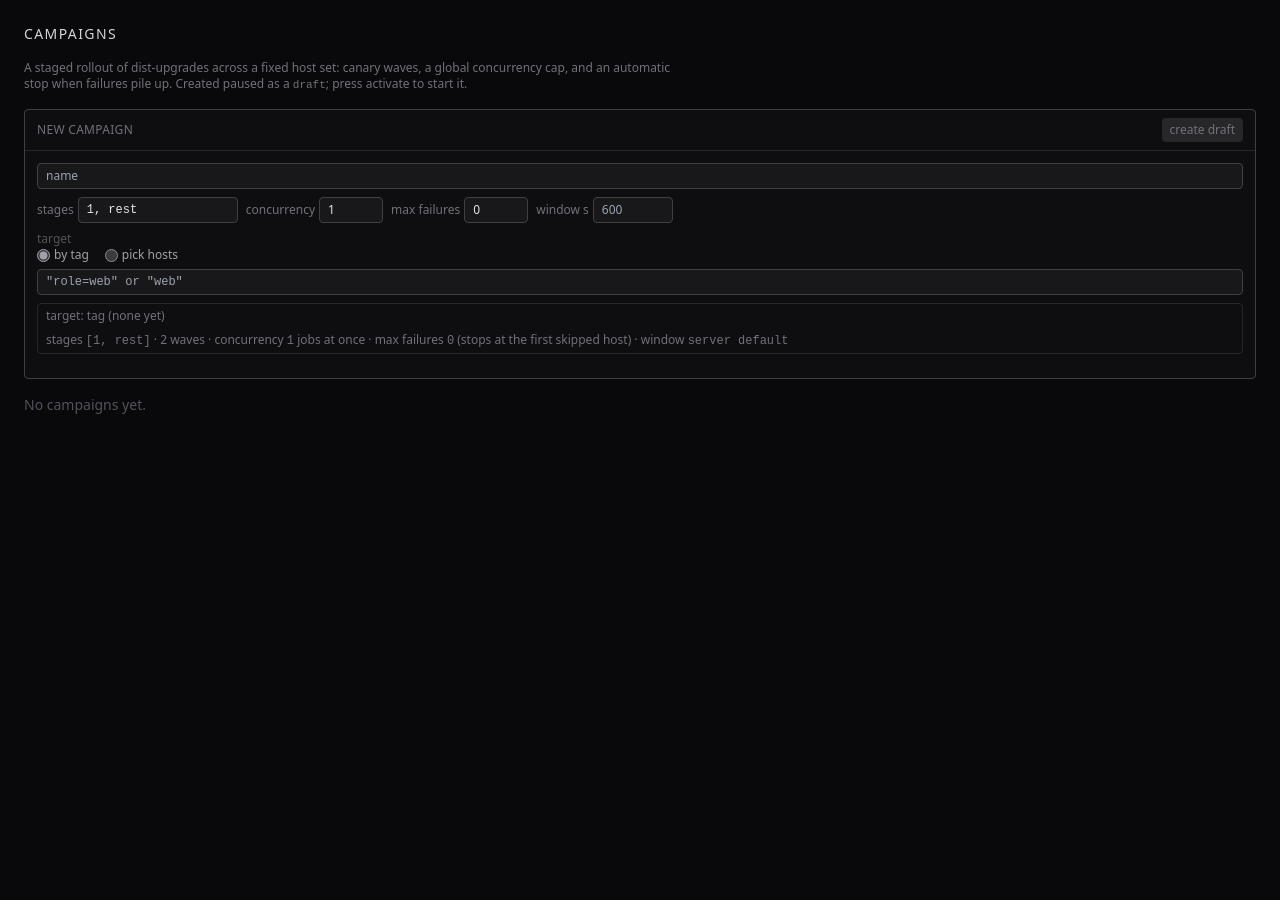
Scenario: CampaignsView › creates a draft with a tag target and parsed stages
Expected: the text "No campaigns yet." is shown, [24,395,146,414]
Expected: the button "create draft" is disabled, [1162,118,1243,142]
Type "march rollout" into the field with placeholder "name" at (640, 176), box [37,163,1243,189]
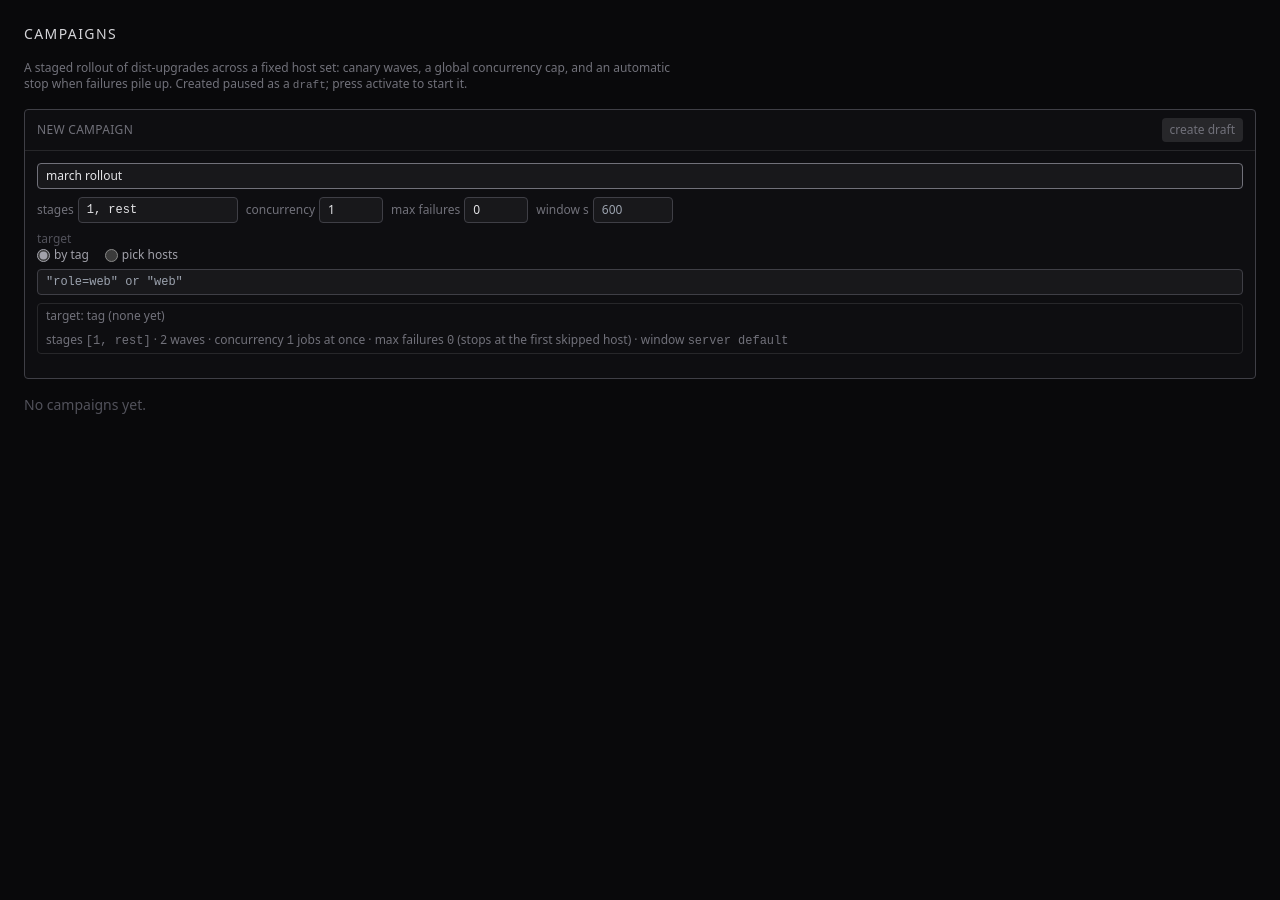
Replace the text in the field labelled "stages" with "2, 25%, rest" at (158, 210), box [78,197,238,223]
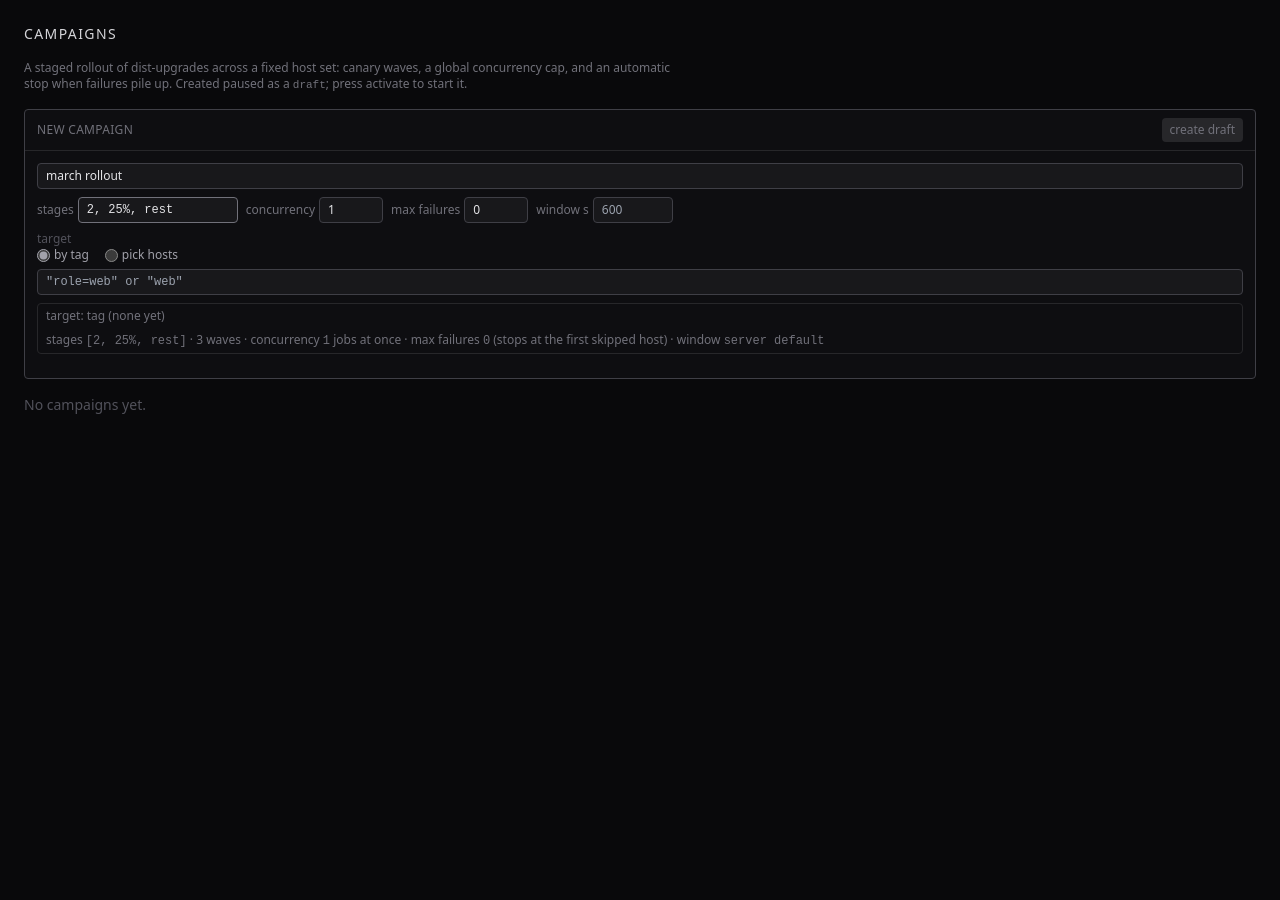
Type "env=prod" into the field named "Tag filter" at (640, 282), box [37,269,1243,295]
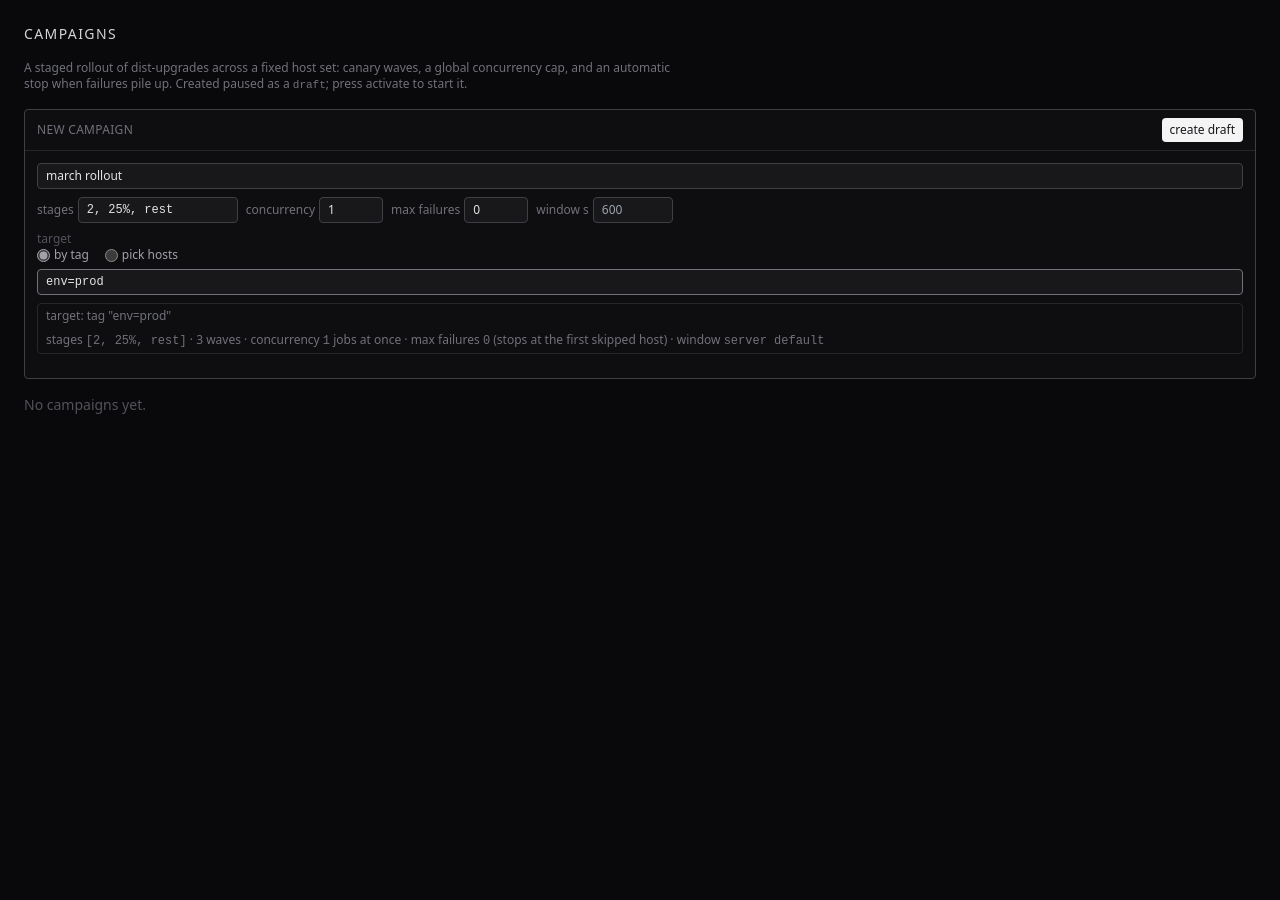
Click the button "create draft" at (1202, 130), box [1162,118,1243,142]
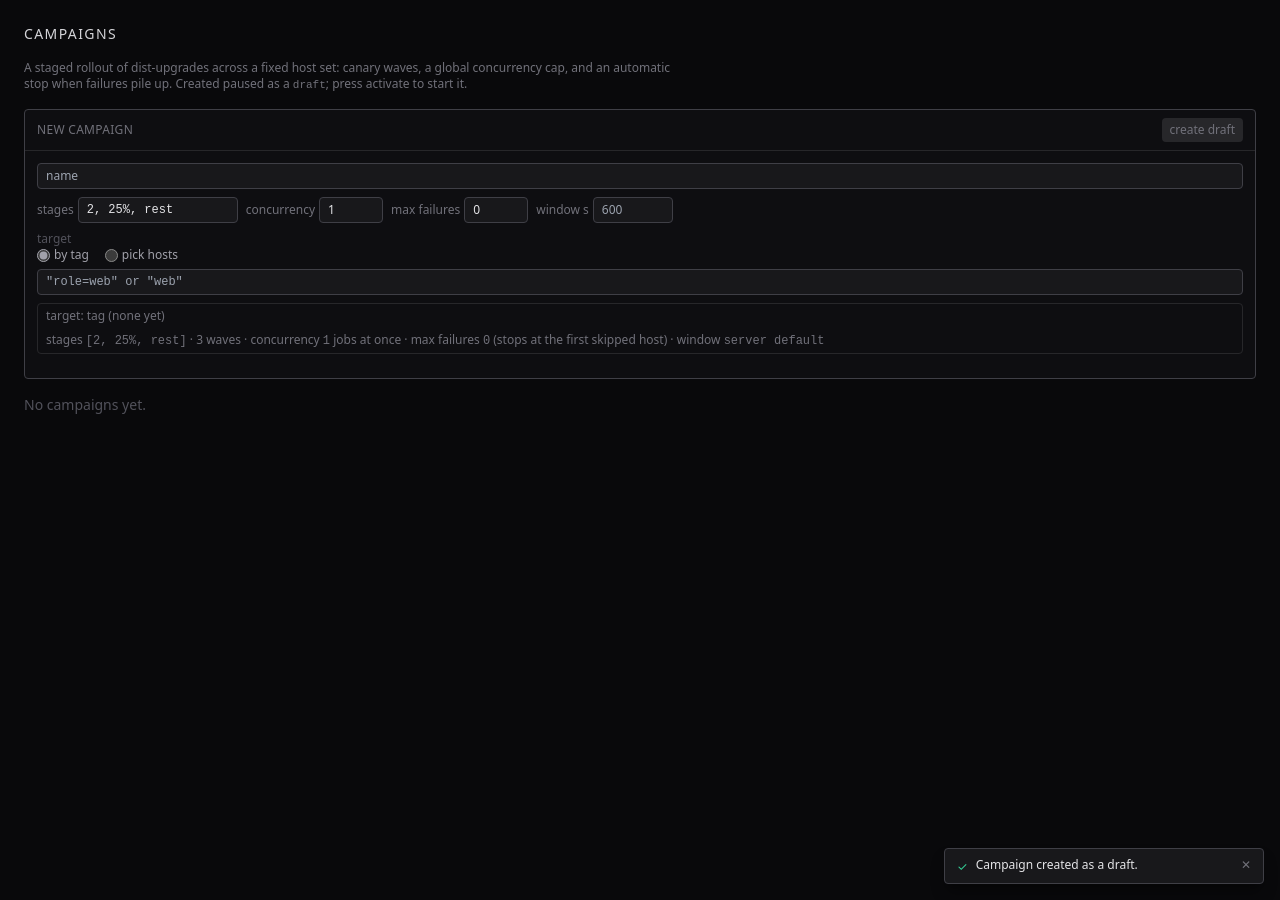
Expected: the text "Campaign created as a draft." is shown, [976,856,1138,873]
